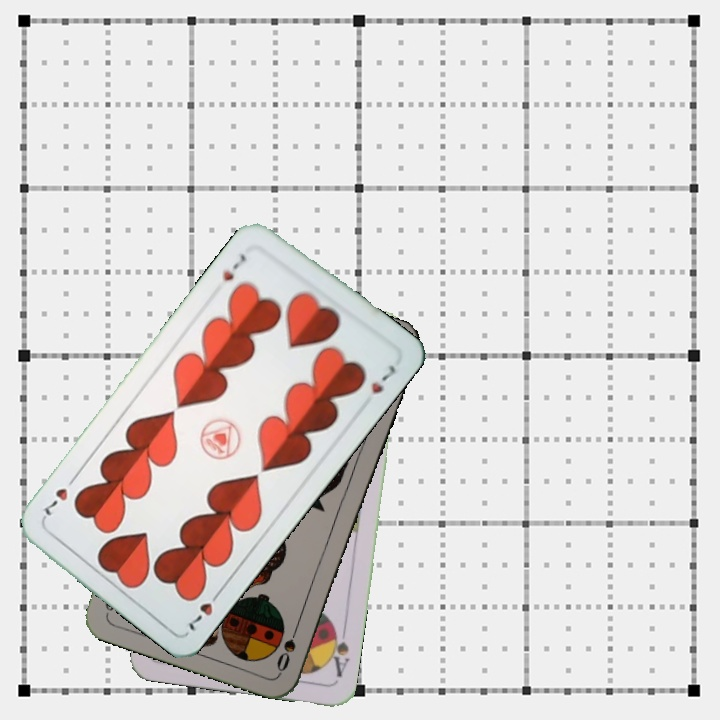H7: (181, 585, 225, 636), (218, 249, 249, 284)
SA: (324, 621, 352, 680)
SO: (272, 618, 303, 674)
